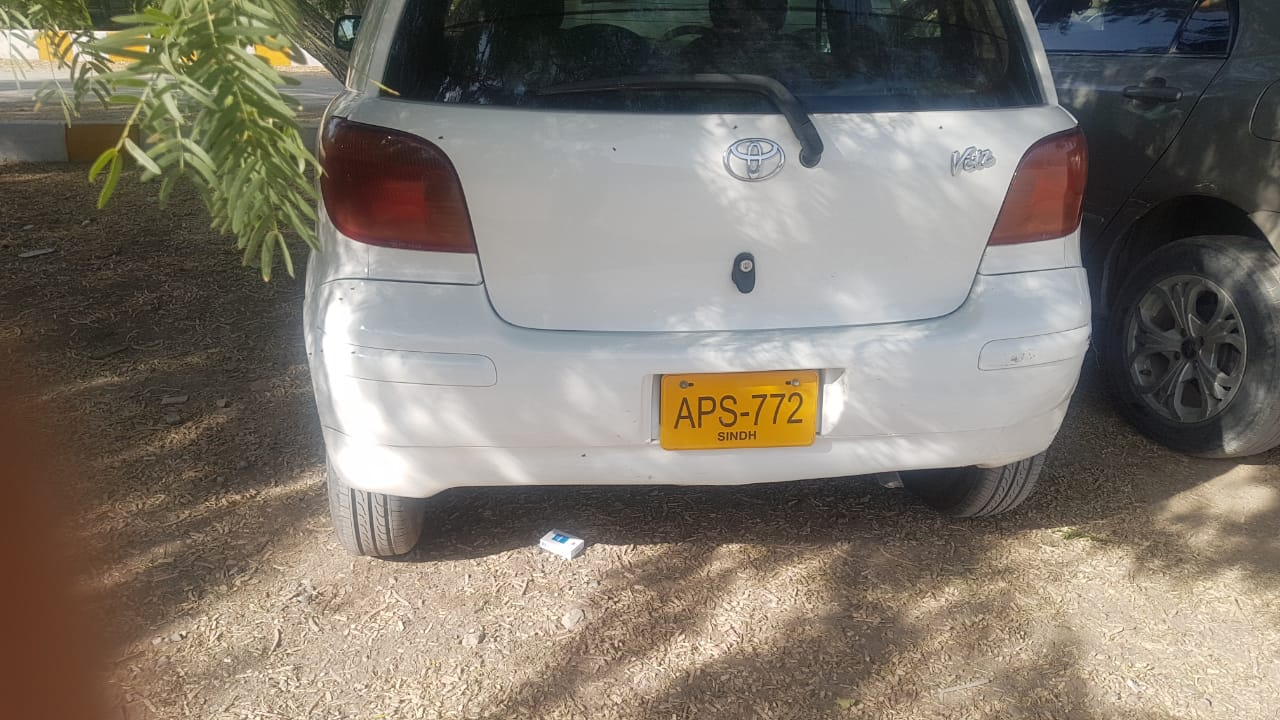license plate: (660, 372, 819, 448)
